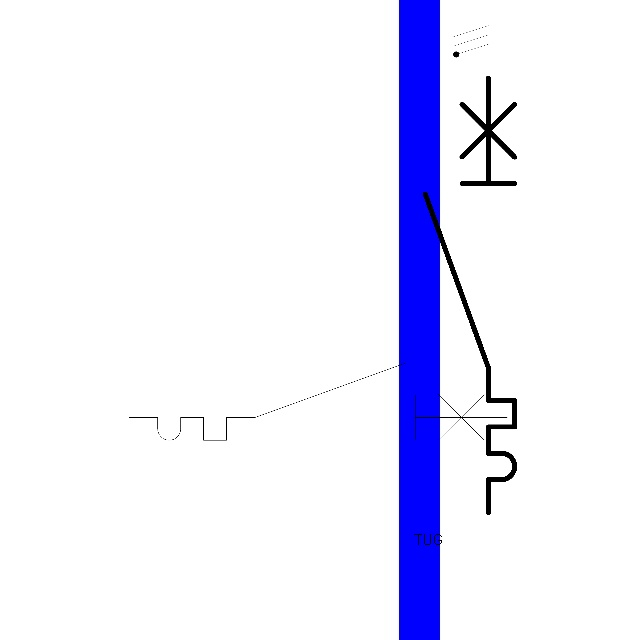interruptor_termomagnetico: (414, 66, 526, 523), (119, 353, 517, 450)
